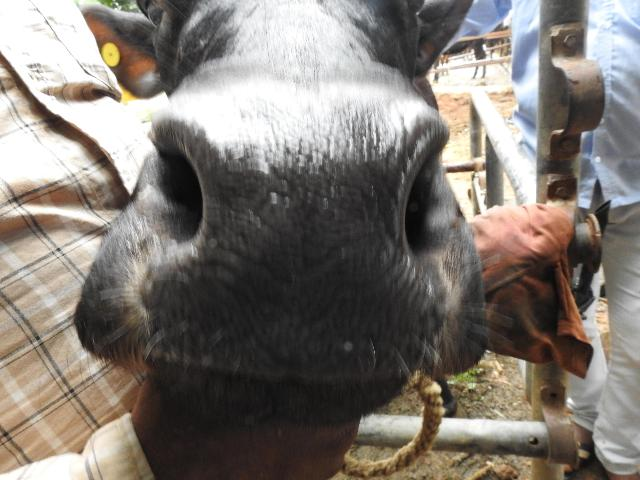Muzzle: (173, 109, 421, 377)
